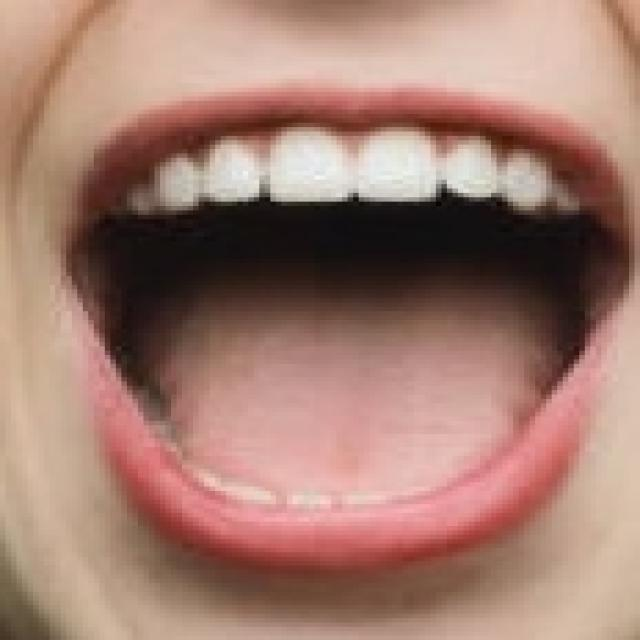open-mouth: (55, 78, 635, 574)
